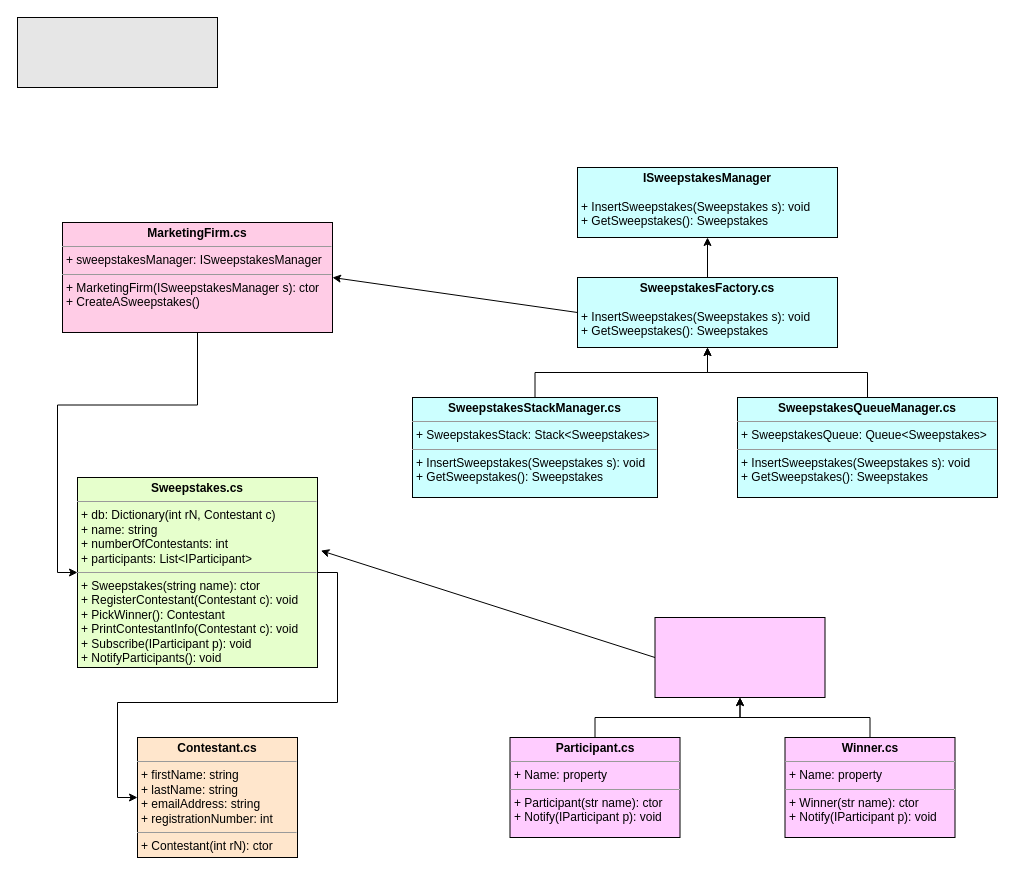
Some shapes in this 1015 by 875 pixel diagram are drawn without their labels. The shapes that lost their labels are listed below. From the top down, each one's centre as x and y in pixels, then its label:
point 117,52: UI.cs + SetContestantInfo(Contestant c):
point 739,657: IParticipant + Name(): property + Notify(IParticipant p): void
